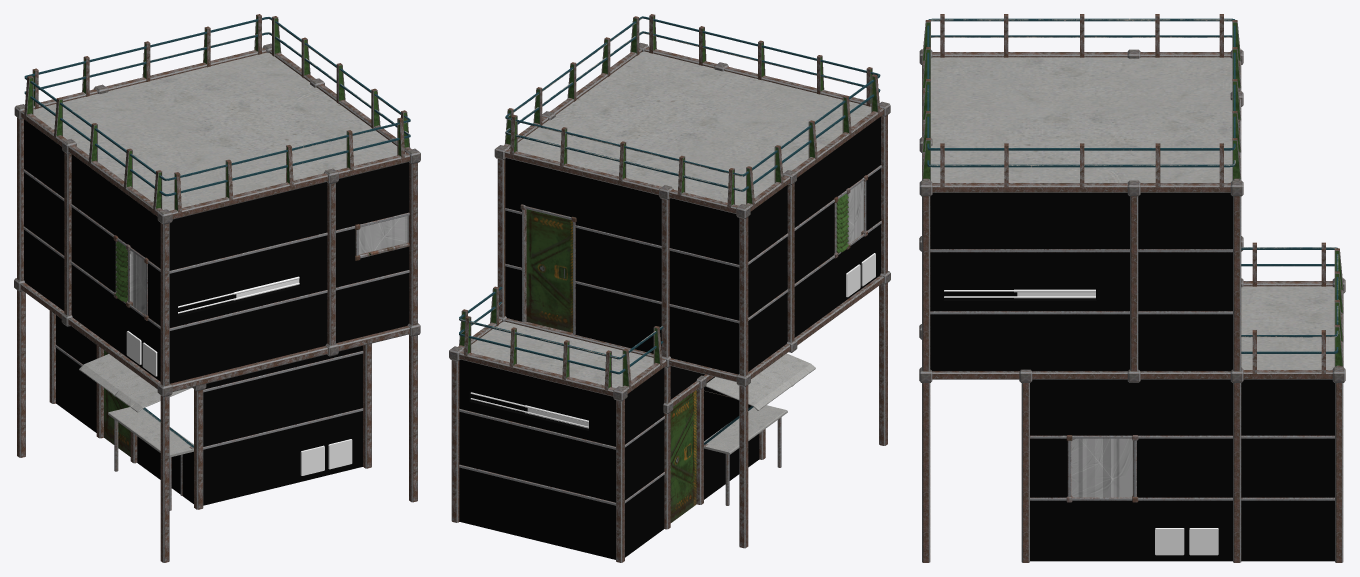
The model's file is Container.fbx.
3 views of the same model, side by side, from view 1: azimuth 30°, elevation 25°; view 2: azimuth 150°, elevation 25°; view 3: azimuth 270°, elevation 25° (orthographic). The views are drawn at different scales.
Visible parts, largest first — view 1: sm_hut_with_food_01.mo; view 2: sm_hut_with_food_01.mo; view 3: sm_hut_with_food_01.mo.
Boxes of the visible parts, <box> form: sm_hut_with_food_01.mo: <box>14,14,420,562</box>; sm_hut_with_food_01.mo: <box>449,14,890,562</box>; sm_hut_with_food_01.mo: <box>919,14,1345,562</box>.
Size of the model in its own units: 613 by 869 by 807.
Materials: 6 (3 with a texture image).
